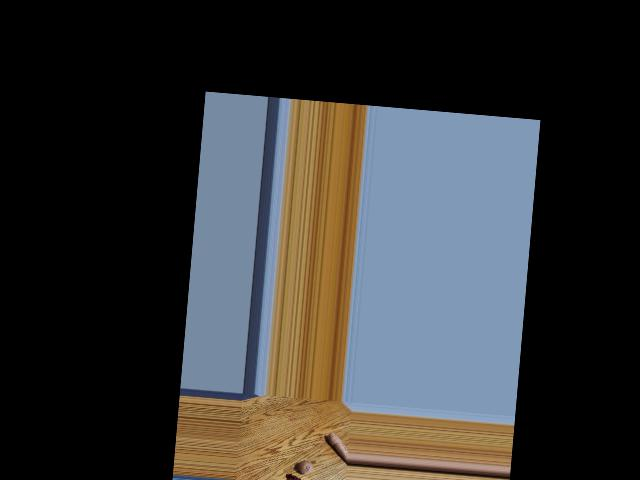onion: (281, 477, 300, 480)
